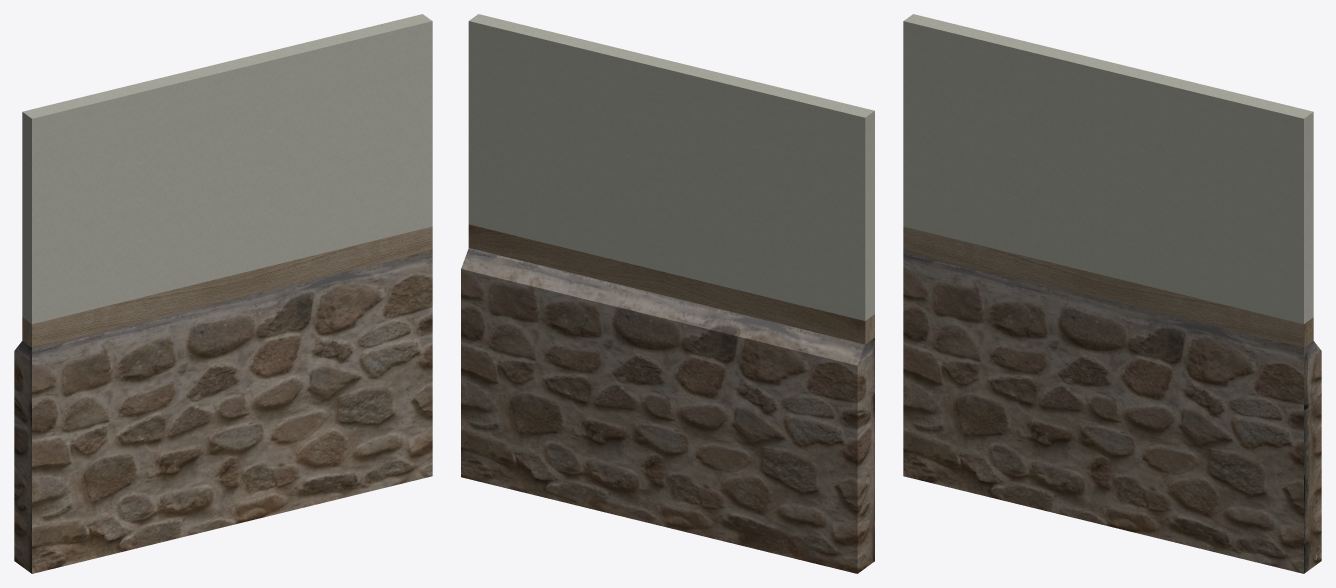
The model's file is SM_Sun_Toilet_Wall_C.fbx.
3 renders of one model, left to right at view 1: azimuth 30°, elevation 25°; view 2: azimuth 150°, elevation 25°; view 3: azimuth 330°, elevation 25°, orthographic.
Parts seen in each view (by area): view 1: SM_Sun_Toilet_Wall_C; view 2: SM_Sun_Toilet_Wall_C; view 3: SM_Sun_Toilet_Wall_C.
Part boxes in pixels (box(x1,y1,x2,y2)): SM_Sun_Toilet_Wall_C: box(14, 14, 432, 573); SM_Sun_Toilet_Wall_C: box(461, 14, 874, 573); SM_Sun_Toilet_Wall_C: box(903, 14, 1321, 573).
Size of the model in its own units: 237 by 258 by 18.
